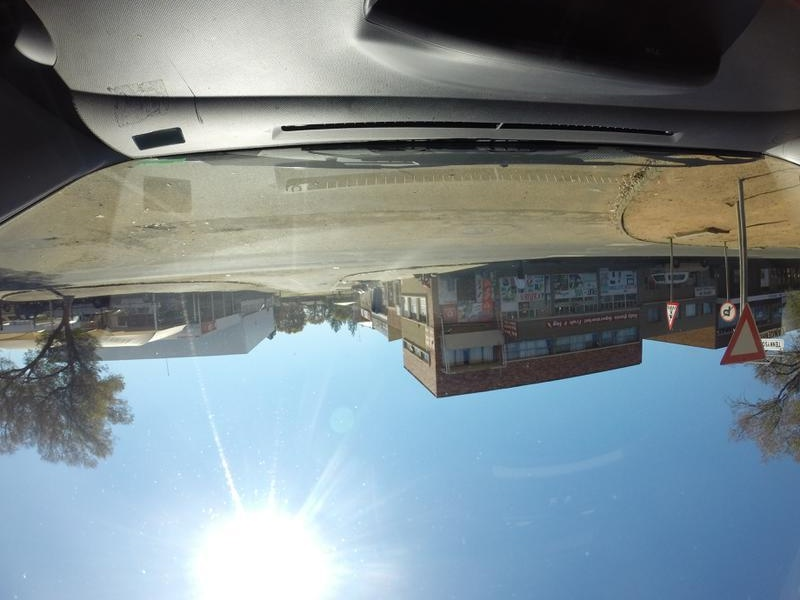pothole: (28, 226, 85, 254), (131, 213, 179, 238), (193, 220, 245, 240)
